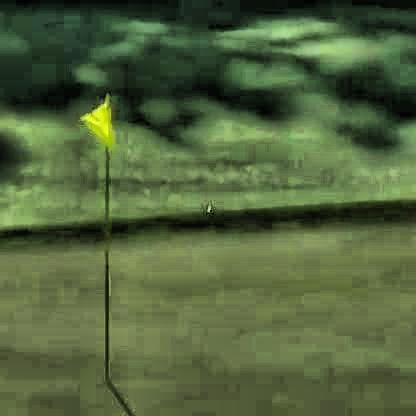golfball: (204, 199, 209, 209)
